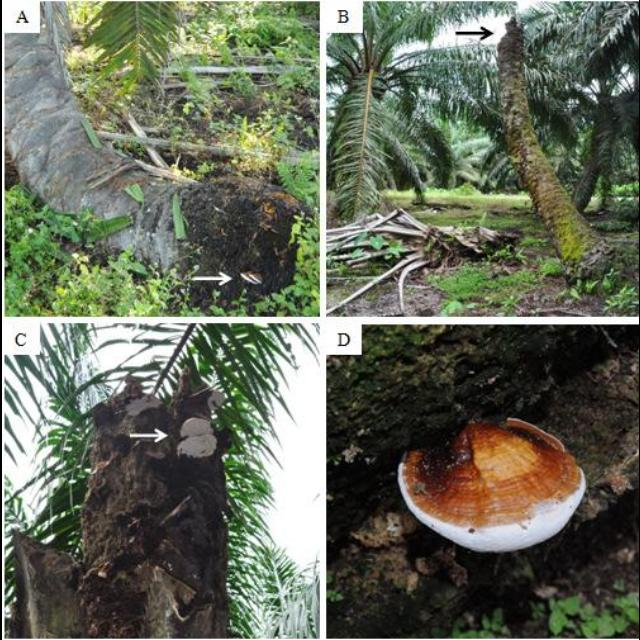ganoderma: (395, 412, 588, 557)
